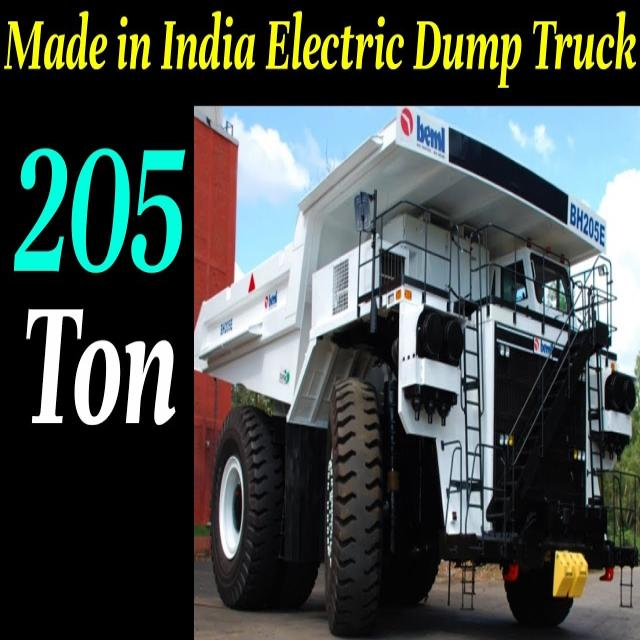dump_truck: (194, 111, 636, 617)
